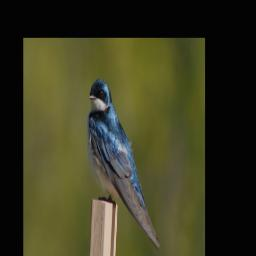Swallow: (85, 74, 160, 254)
